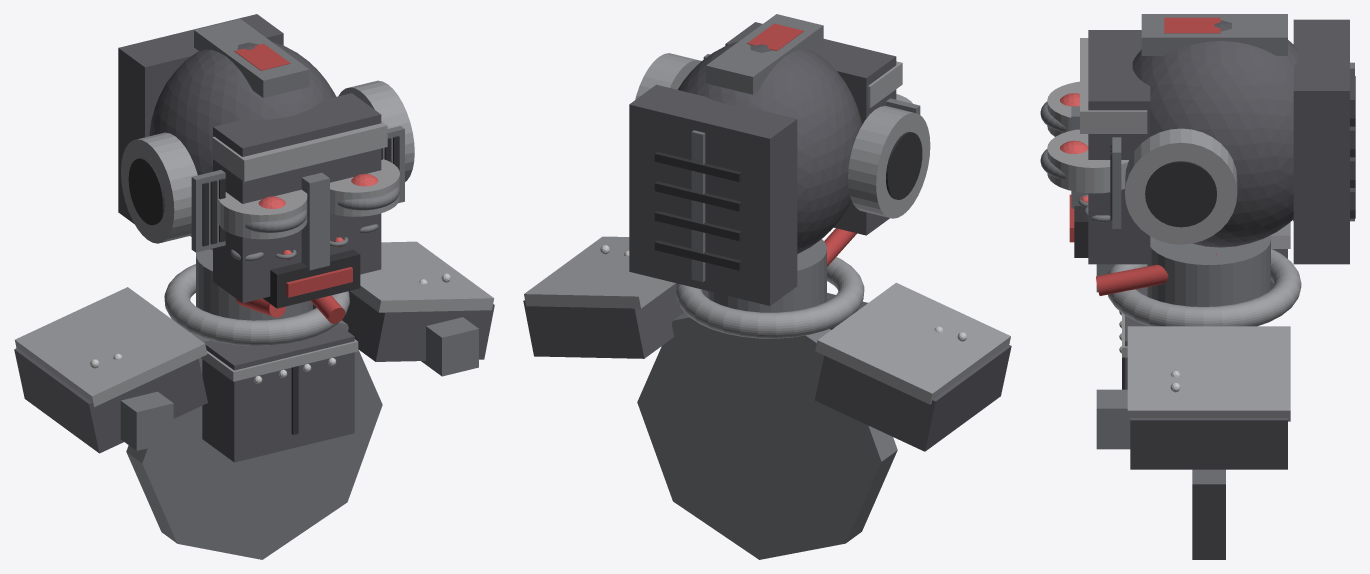
File: cyber_robot_head.glb
The picture shows the model from 3 angles, left to right: view 1: azimuth 30°, elevation 25°; view 2: azimuth 150°, elevation 25°; view 3: azimuth 270°, elevation 25°; orthographic projection. The views are drawn at different scales.
Visible parts, largest first — view 1: torso_base, face_plate, chest_plate, shoulder_R_edge, head_dome, shoulder_R_main, shoulder_L_edge, back_plate, collar_ring, shoulder_L_main, ear_R_outer, brow_trim (+18 smaller); view 2: torso_base, back_plate, head_dome, shoulder_R_edge, shoulder_R_main, shoulder_L_main, shoulder_L_edge, collar_ring, ear_R_outer, face_plate, head_crest, neck_core (+10 smaller); view 3: head_dome, shoulder_L_edge, back_plate, face_plate, shoulder_L_main, neck_core, ear_L_outer, collar_ring, head_crest, ear_L_inner, torso_base, eye_L_housing (+8 smaller).
Part boxes in pixels (x1=…): torso_base: x1=126, y1=320, x2=382, y2=559; face_plate: x1=213, y1=93, x2=381, y2=303; chest_plate: x1=202, y1=324, x2=354, y2=462; shoulder_R_edge: x1=15, y1=287, x2=207, y2=406; head_dome: x1=149, y1=41, x2=336, y2=250; shoulder_R_main: x1=14, y1=348, x2=207, y2=453; shoulder_L_edge: x1=350, y1=241, x2=494, y2=312; back_plate: x1=118, y1=14, x2=283, y2=223; collar_ring: x1=164, y1=264, x2=349, y2=345; shoulder_L_main: x1=313, y1=291, x2=494, y2=361; ear_R_outer: x1=121, y1=132, x2=197, y2=243; brow_trim: x1=212, y1=121, x2=387, y2=181; torso_base: x1=637, y1=312, x2=897, y2=559; back_plate: x1=629, y1=84, x2=797, y2=305; head_dome: x1=678, y1=41, x2=861, y2=253; shoulder_R_edge: x1=815, y1=282, x2=1010, y2=404; shoulder_R_main: x1=814, y1=344, x2=1011, y2=451; shoulder_L_main: x1=523, y1=283, x2=707, y2=358; shoulder_L_edge: x1=524, y1=236, x2=675, y2=308; collar_ring: x1=676, y1=257, x2=864, y2=338; ear_R_outer: x1=848, y1=106, x2=930, y2=218; face_plate: x1=725, y1=22, x2=896, y2=235; head_crest: x1=706, y1=14, x2=823, y2=94; neck_core: x1=708, y1=239, x2=826, y2=312; head_dome: x1=1132, y1=20, x2=1298, y2=247; shoulder_L_edge: x1=1127, y1=326, x2=1290, y2=421; back_plate: x1=1293, y1=19, x2=1349, y2=264; face_plate: x1=1088, y1=30, x2=1150, y2=264; shoulder_L_main: x1=1130, y1=418, x2=1287, y2=469; neck_core: x1=1147, y1=235, x2=1270, y2=306; ear_L_outer: x1=1125, y1=128, x2=1237, y2=244; collar_ring: x1=1108, y1=248, x2=1301, y2=326; head_crest: x1=1141, y1=14, x2=1287, y2=55; ear_L_inner: x1=1145, y1=161, x2=1216, y2=227; torso_base: x1=1192, y1=469, x2=1225, y2=559; eye_L_housing: x1=1047, y1=129, x2=1128, y2=193.
Size of the model in its own units: 4.39 by 5.2 by 2.8.
